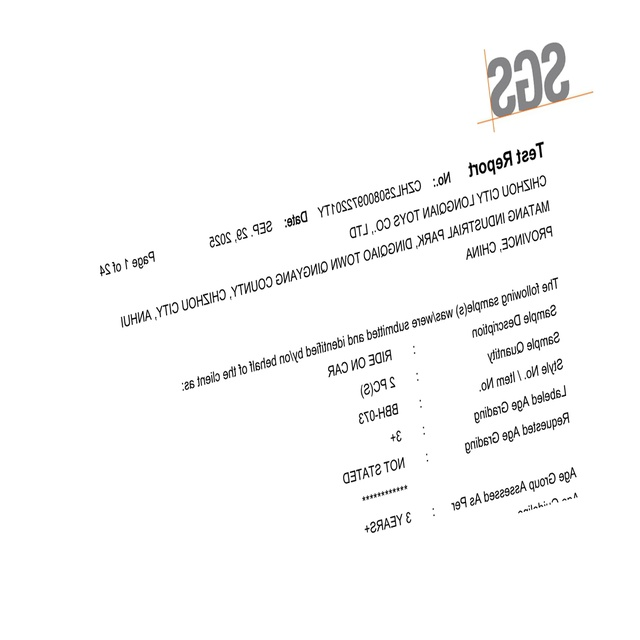sgs: (487, 40, 570, 117)
